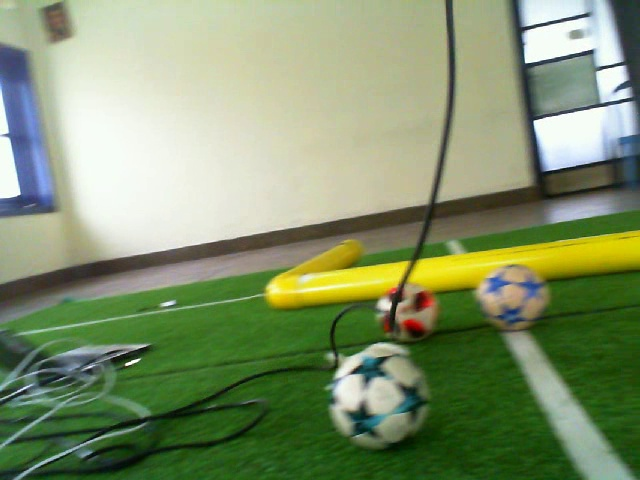ball: (323, 344, 434, 453), (472, 261, 556, 334), (374, 279, 443, 345)
